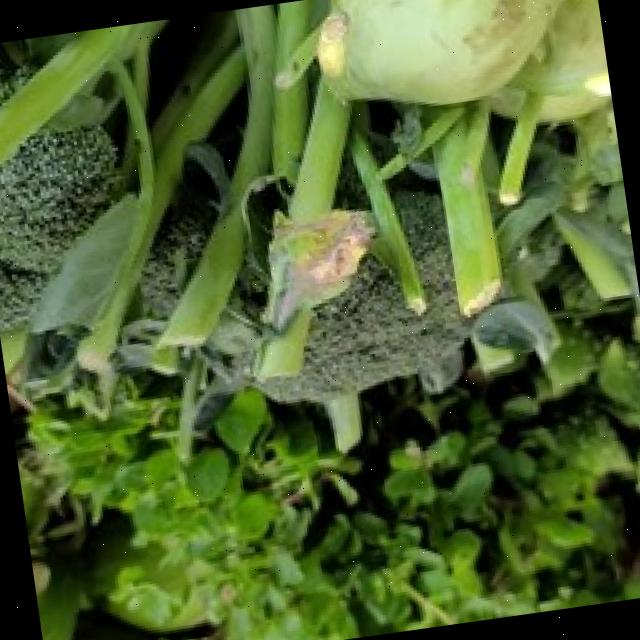Broccoli: (257, 191, 464, 401), (257, 191, 464, 401), (0, 122, 117, 329), (0, 122, 117, 329), (0, 34, 67, 103), (0, 34, 61, 104), (61, 90, 108, 119), (62, 90, 107, 118)
